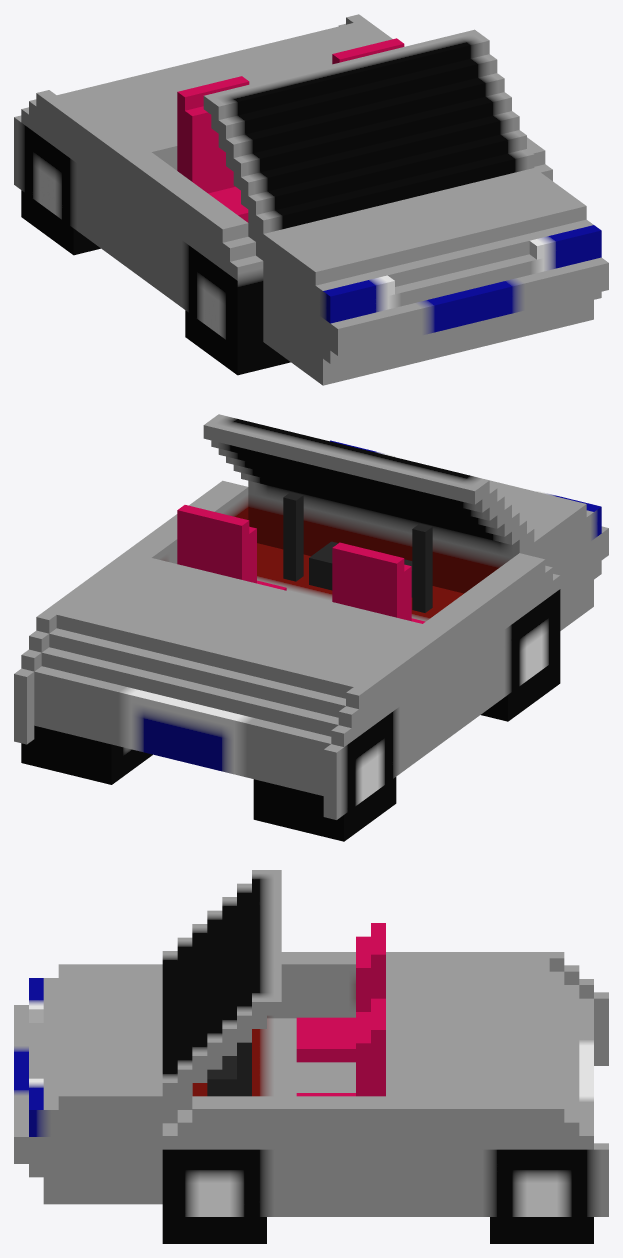
File: Car_13.fbx
3 views of the same model, one above another, from view 1: azimuth 30°, elevation 25°; view 2: azimuth 150°, elevation 25°; view 3: azimuth 270°, elevation 25° (orthographic).
Parts seen in each view (by area): view 1: Car_13; view 2: Car_13; view 3: Car_13.
Part boxes in pixels (left/top/right/bottom): Car_13: left=14, top=14, right=608, bottom=385; Car_13: left=14, top=414, right=608, bottom=841; Car_13: left=14, top=870, right=608, bottom=1243.
Size of the model in its own units: 25 by 17 by 40.
1 material, 1 textured.
